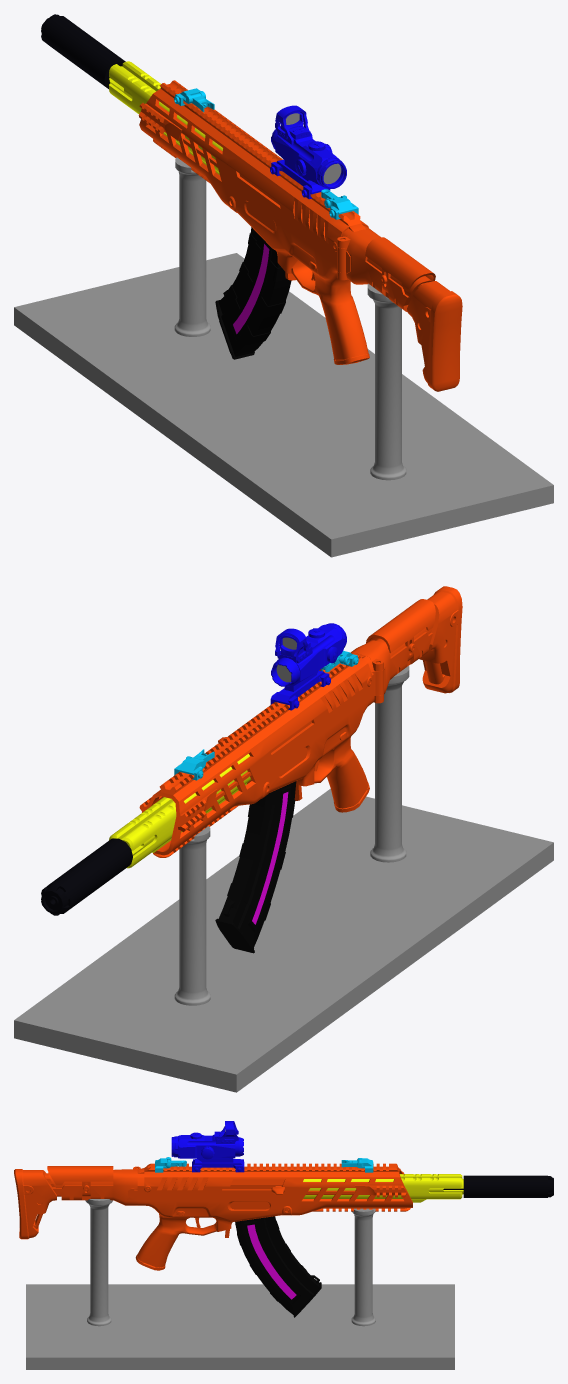
The model's file is toSk.fbx.
3 renders of one model, top to bottom at view 1: azimuth 30°, elevation 25°; view 2: azimuth 150°, elevation 25°; view 3: azimuth 270°, elevation 25°, orthographic. The views are drawn at different scales.
Visible parts, largest first — view 1: Podium, Receiver, Mag030, But_back, HAMR, Suppressor, Barrel_Short, But_Uper, Sight Down, Mag30 glas; view 2: Podium, Receiver, Mag030, HAMR, But_back, Suppressor, Barrel_Short, But_Uper, Sight Down, Mag30 glas; view 3: Podium, Receiver, Mag030, HAMR, Barrel_Short, Suppressor, But_back, But_Uper, Mag30 glas, Sight Down.
Part boxes in pixels (<box>): Podium: <box>14,157,553,557</box>; Receiver: <box>138,80,432,364</box>; Mag030: <box>215,227,291,359</box>; But_back: <box>407,281,462,391</box>; HAMR: <box>270,105,346,199</box>; Suppressor: <box>41,14,125,88</box>; Barrel_Short: <box>109,61,222,174</box>; But_Uper: <box>365,237,435,292</box>; Sight Down: <box>174,88,358,219</box>; Mag30 glas: <box>233,244,269,333</box>; Podium: <box>14,666,553,1092</box>; Receiver: <box>139,628,432,857</box>; Mag030: <box>215,781,296,953</box>; HAMR: <box>270,623,346,710</box>; But_back: <box>419,586,462,693</box>; Suppressor: <box>41,838,132,915</box>; Barrel_Short: <box>109,754,251,868</box>; But_Uper: <box>366,599,435,660</box>; Sight Down: <box>174,651,358,780</box>; Mag30 glas: <box>252,792,288,924</box>; Podium: <box>26,1199,454,1369</box>; Receiver: <box>48,1163,412,1270</box>; Mag030: <box>235,1216,321,1317</box>; HAMR: <box>171,1121,244,1172</box>; Barrel_Short: <box>303,1174,463,1202</box>; Suppressor: <box>443,1175,553,1197</box>; But_back: <box>14,1169,60,1239</box>; But_Uper: <box>47,1166,113,1196</box>; Mag30 glas: <box>247,1224,296,1299</box>; Sight Down: <box>155,1157,373,1172</box>.
Size of the model in its own units: 21.7 by 29.05 by 67.41.
